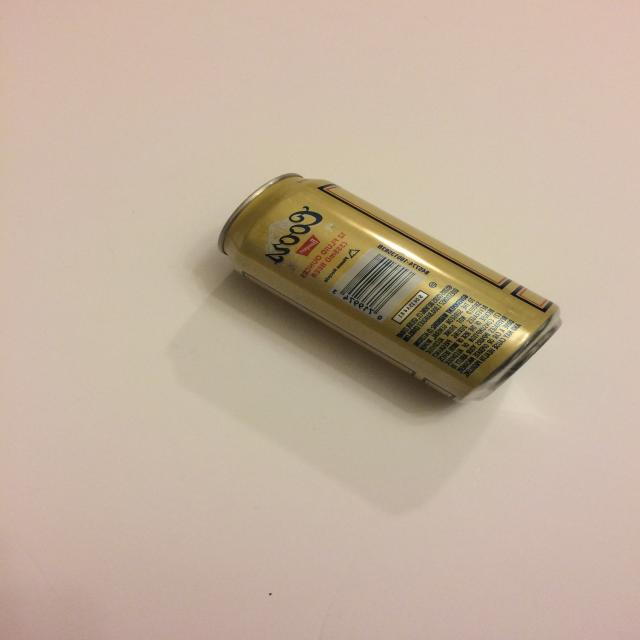metal: (217, 171, 564, 404)
